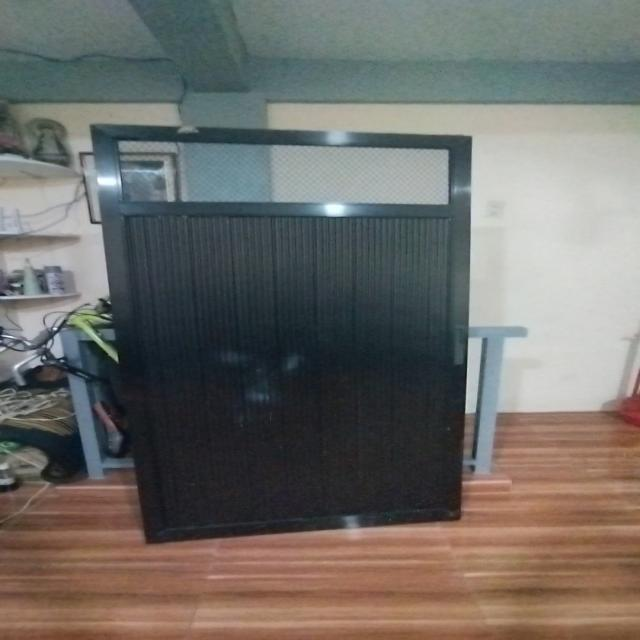door: (80, 120, 482, 547)
